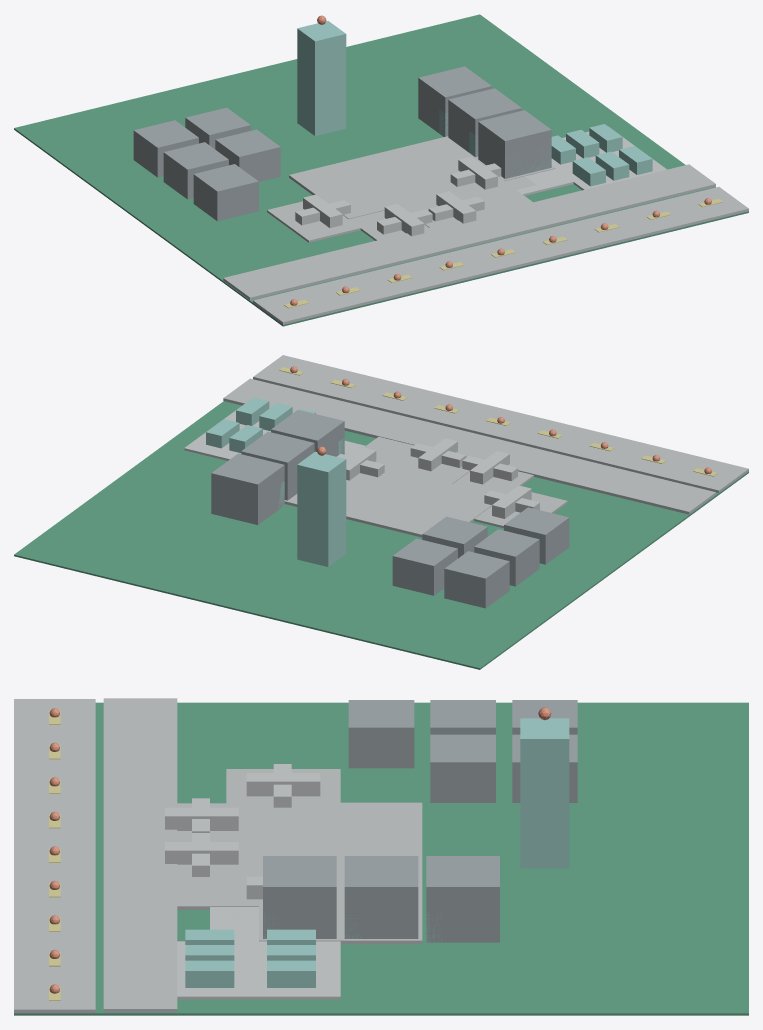
File: stage_21.glb
3 renders of one model, top to bottom at view 1: azimuth 30°, elevation 25°; view 2: azimuth 150°, elevation 25°; view 3: azimuth 270°, elevation 25°, orthographic. The views are drawn at different scales.
Visible parts, largest first — view 1: geometry_0; view 2: geometry_0; view 3: geometry_0.
Boxes of the visible parts, x1,y1,x2,y2 form: geometry_0: (14, 14, 748, 326); geometry_0: (14, 355, 748, 669); geometry_0: (14, 698, 748, 1015).
Bounding box in the file's own units: 9 × 2.06 × 9.
